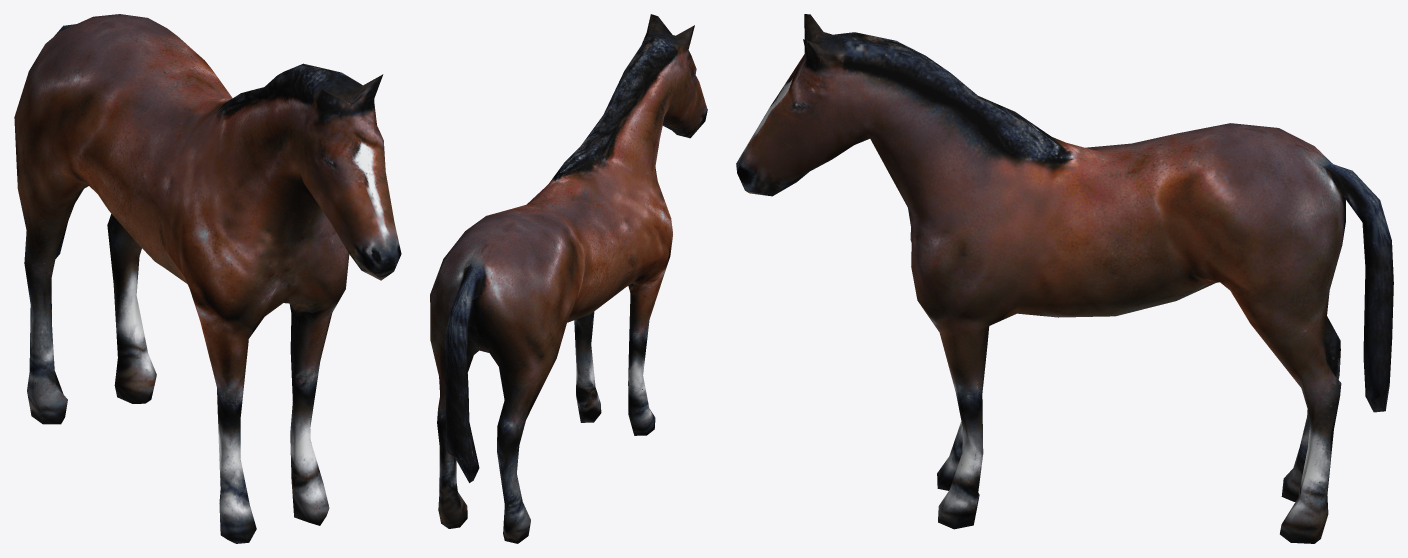
The model's file is cavalo.fbx.
3 renders of one model, left to right at view 1: azimuth 30°, elevation 25°; view 2: azimuth 150°, elevation 25°; view 3: azimuth 270°, elevation 25°, orthographic. The views are drawn at different scales.
Parts seen in each view (by area): view 1: Horse_Low_Poly; view 2: Horse_Low_Poly; view 3: Horse_Low_Poly.
Part boxes in pixels (bbox=[...]): Horse_Low_Poly: bbox=[14, 14, 401, 543]; Horse_Low_Poly: bbox=[430, 14, 707, 543]; Horse_Low_Poly: bbox=[736, 14, 1393, 543].
Size of the model in its own units: 67.32 by 205 by 247.
